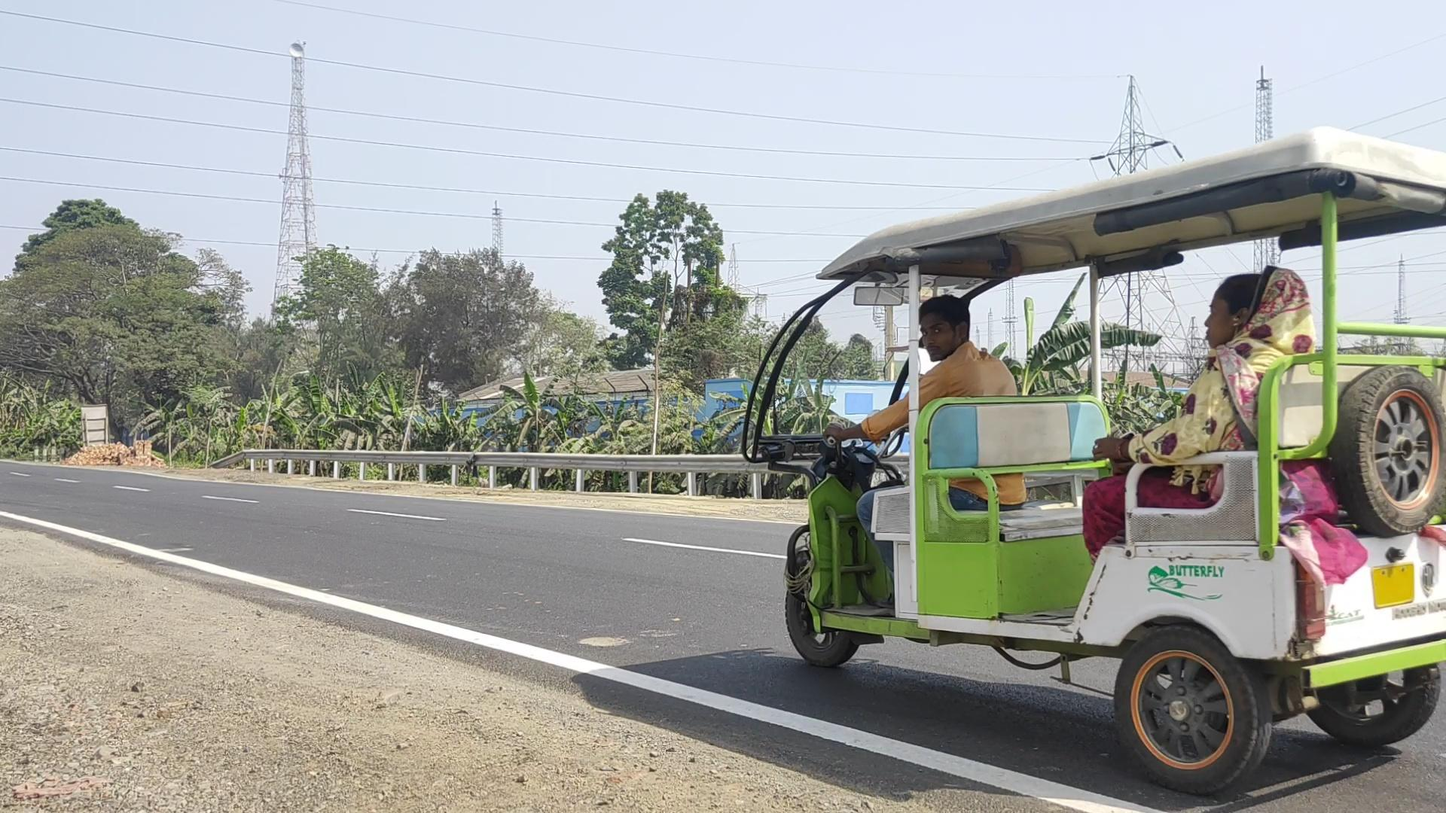Auto: (740, 126, 1446, 799)
